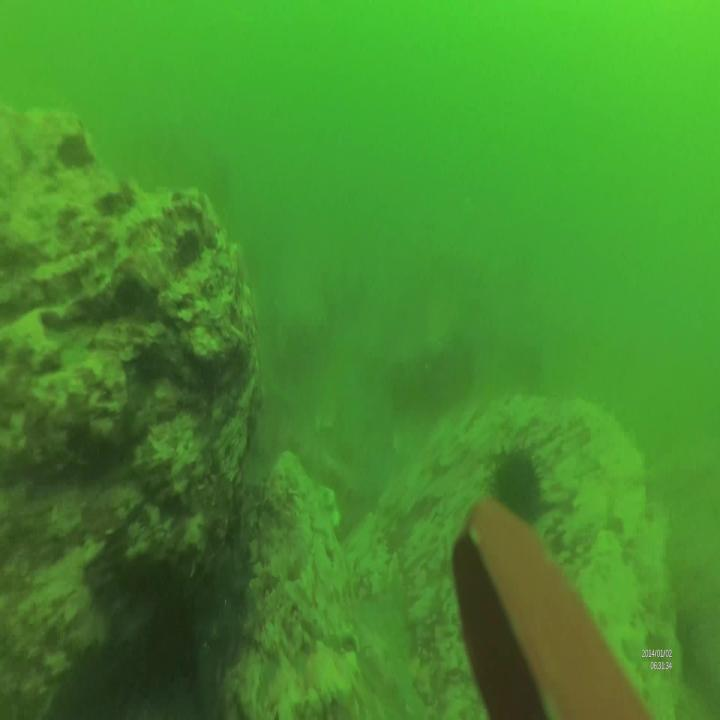echinus: (481, 444, 546, 521)
